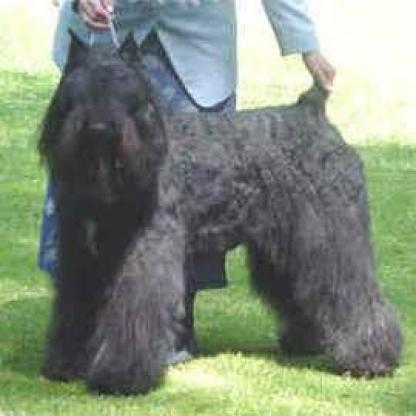Bouvier_des_Flandres: (36, 24, 400, 392)
